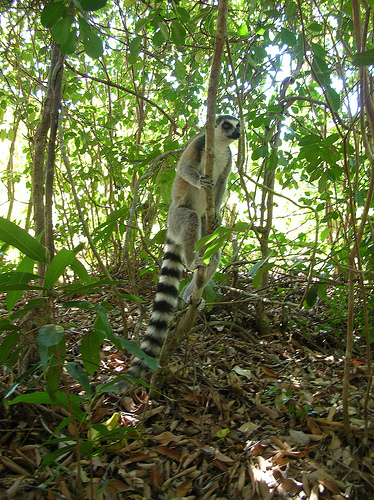cat: (101, 111, 246, 412)
